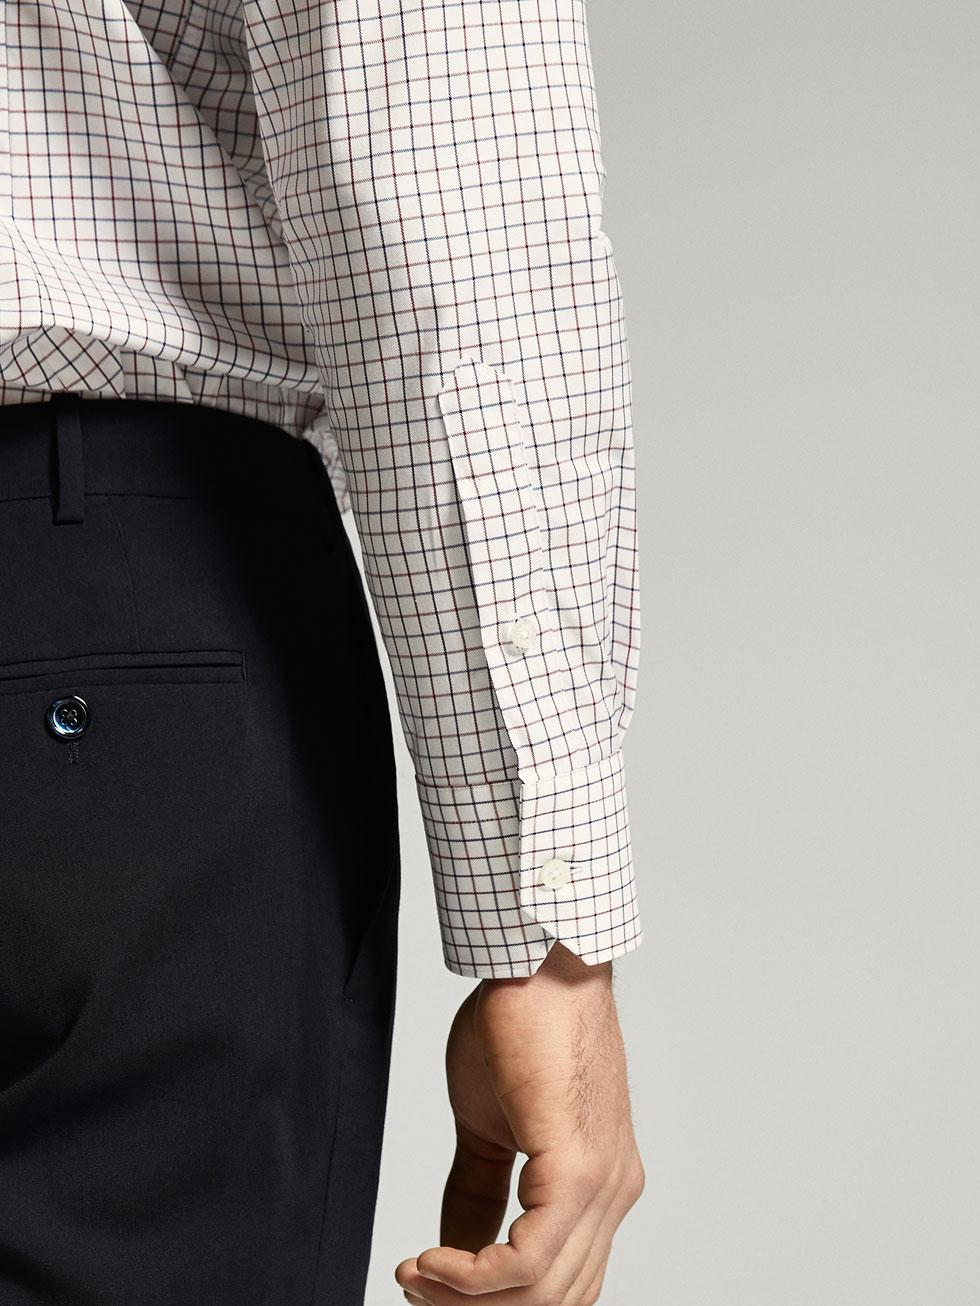teeshirt: (4, 1, 682, 987)
